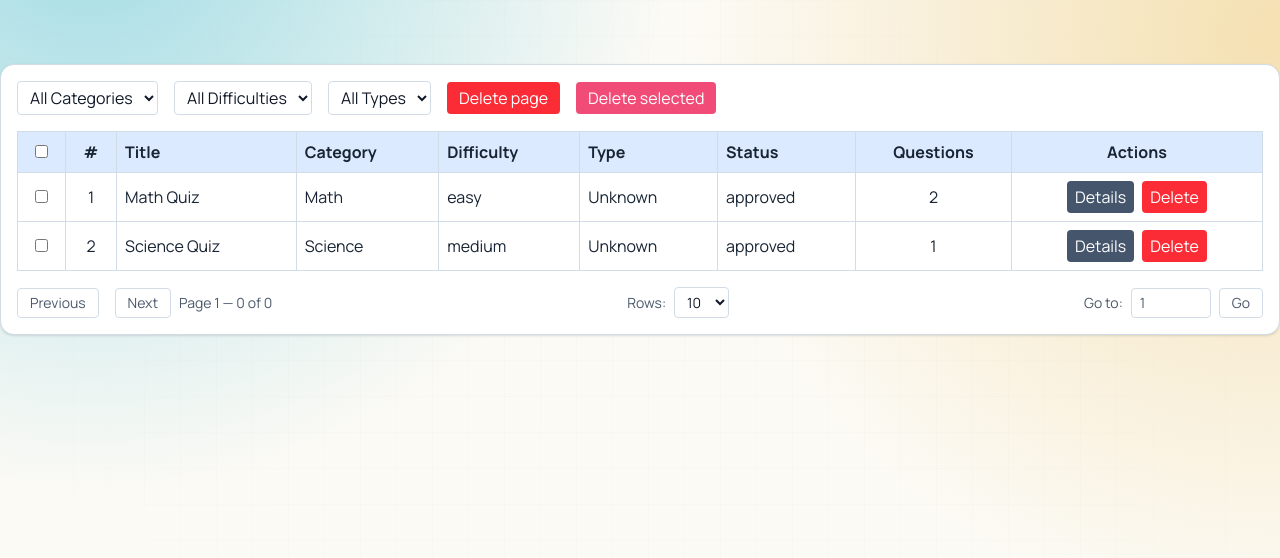
QuizList › filters quizzes by category and difficulty
Expected: the text "Math Quiz" is shown, left=117, top=172, right=296, bottom=222
Select "Science" in the 1st dropdown showing "All Categories" at {"x": 88, "y": 98}, box left=17, top=81, right=158, bottom=115
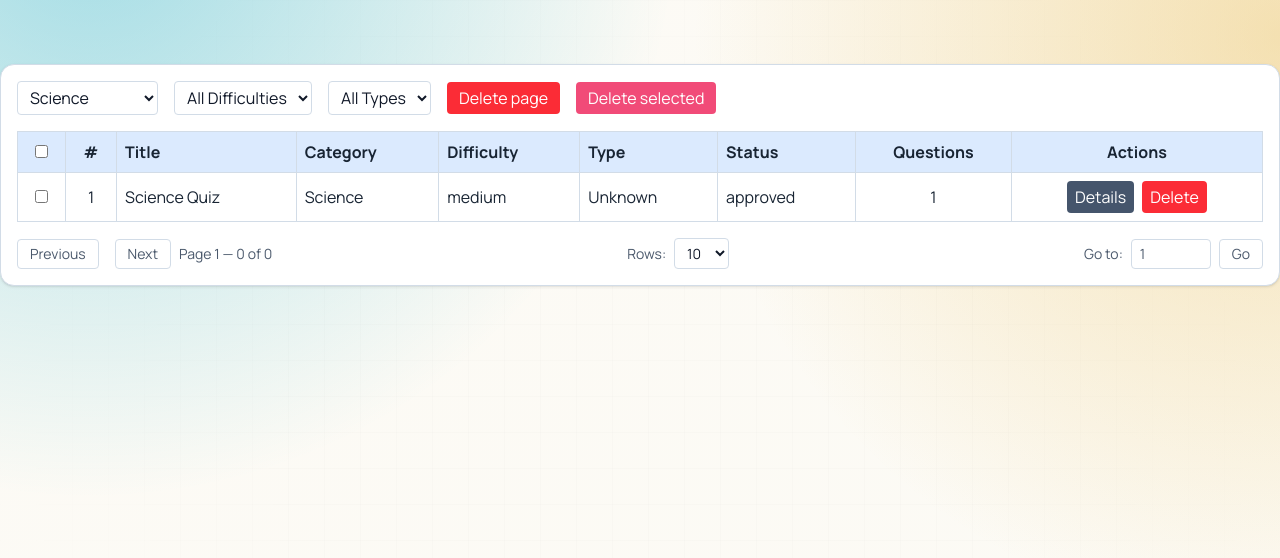
Expected: the text "Science Quiz" is shown, left=117, top=172, right=296, bottom=222
Expected: the text "Math Quiz" is gone
Select "easy" in the 2nd dropdown showing "All Difficulties" at {"x": 243, "y": 98}, box left=174, top=81, right=312, bottom=115
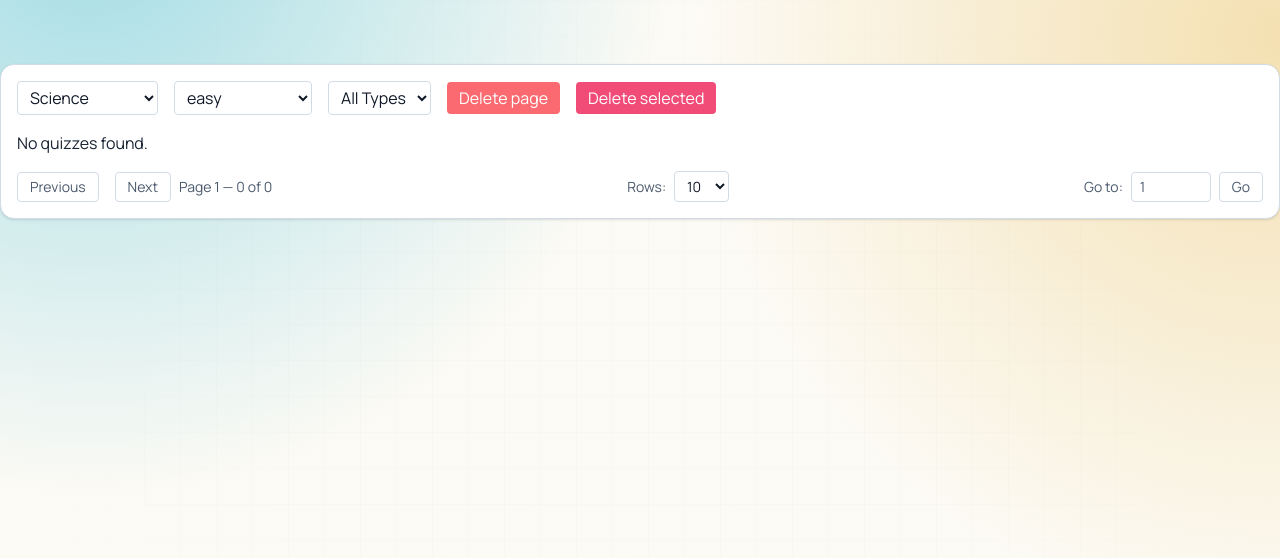
Expected: the text "Math Quiz" is not shown
Expected: the text "Science Quiz" is gone
Expected: the text "No quizzes found." is shown, left=17, top=132, right=148, bottom=154
